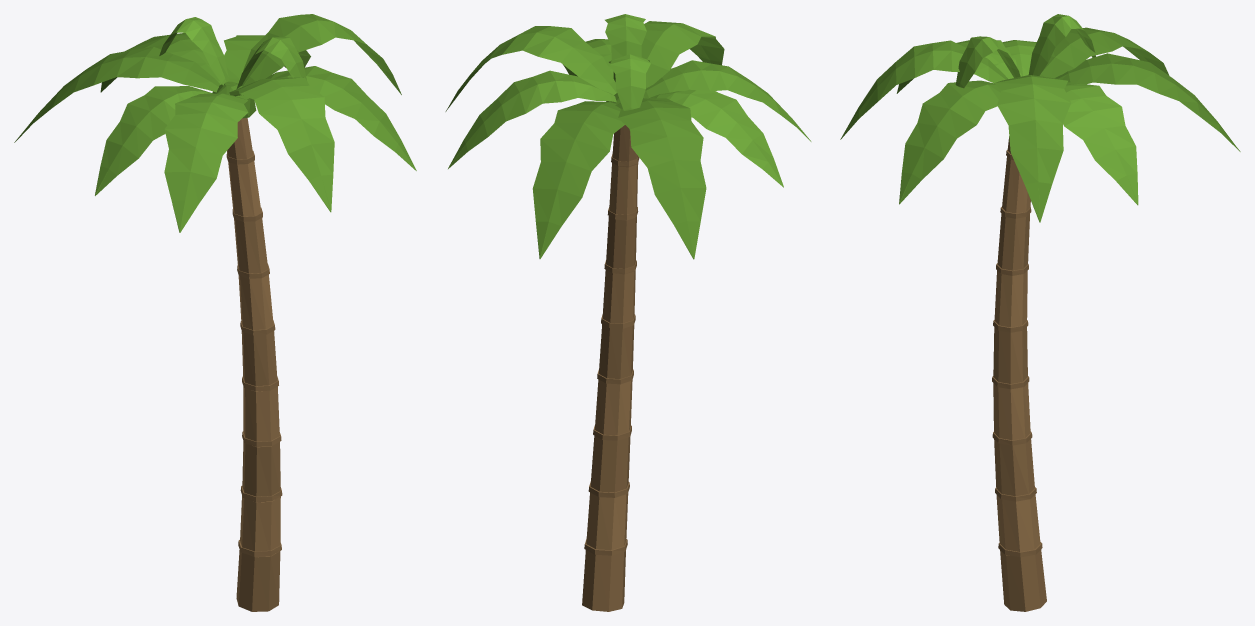
File: 04_tall_palm.glb
3 renders of one model, left to right at view 1: azimuth 30°, elevation 25°; view 2: azimuth 150°, elevation 25°; view 3: azimuth 270°, elevation 25°, orthographic. The views are drawn at different scales.
Visible parts, largest first — view 1: 04_tall_palm; view 2: 04_tall_palm; view 3: 04_tall_palm.
Boxes of the visible parts, x1,y1,x2,y2 form: 04_tall_palm: (14,14,416,611); 04_tall_palm: (445,14,811,611); 04_tall_palm: (840,14,1240,611).
Size of the model in its own units: 2.88 by 4.93 by 3.16.
